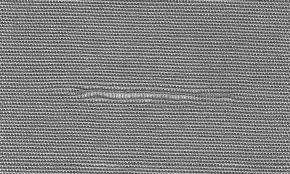Hole: (60, 58, 248, 130)
